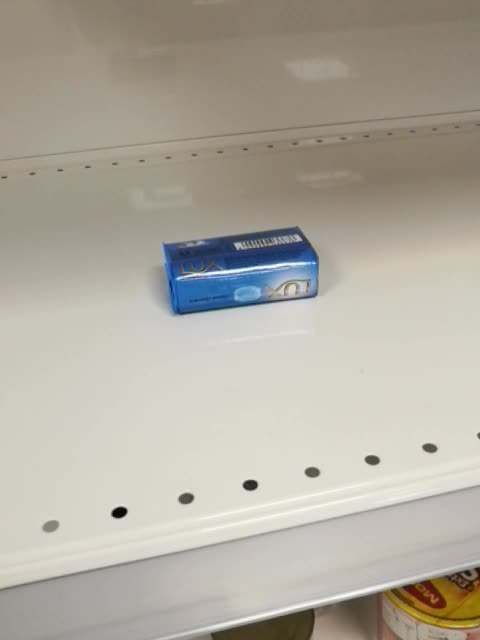soap: (160, 224, 322, 315)
